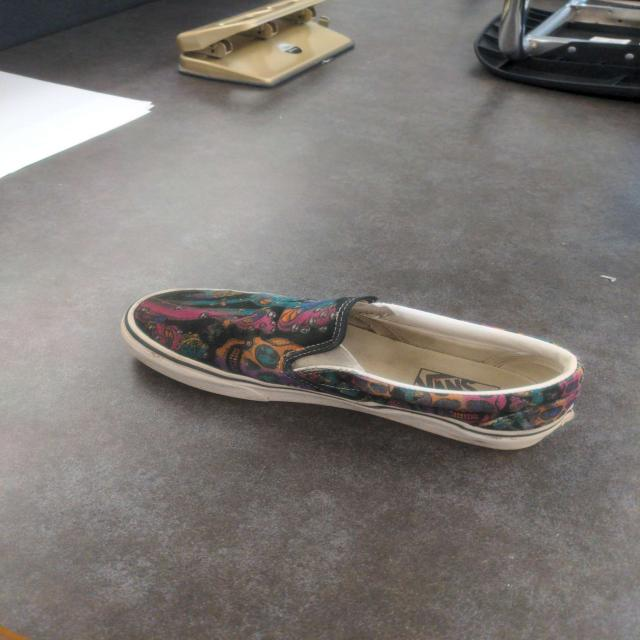shoe: (120, 286, 580, 452)
